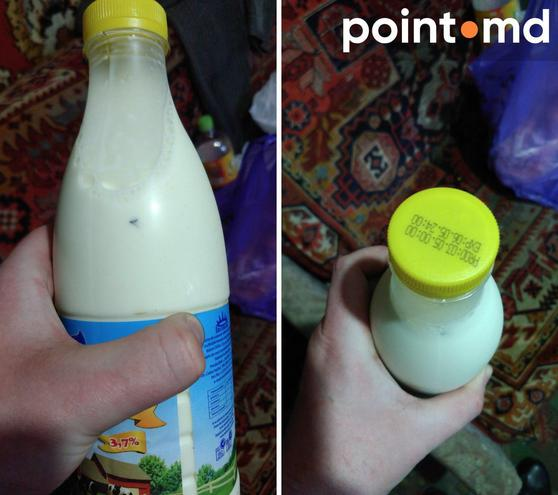milk: (52, 1, 262, 485), (353, 190, 535, 417)
